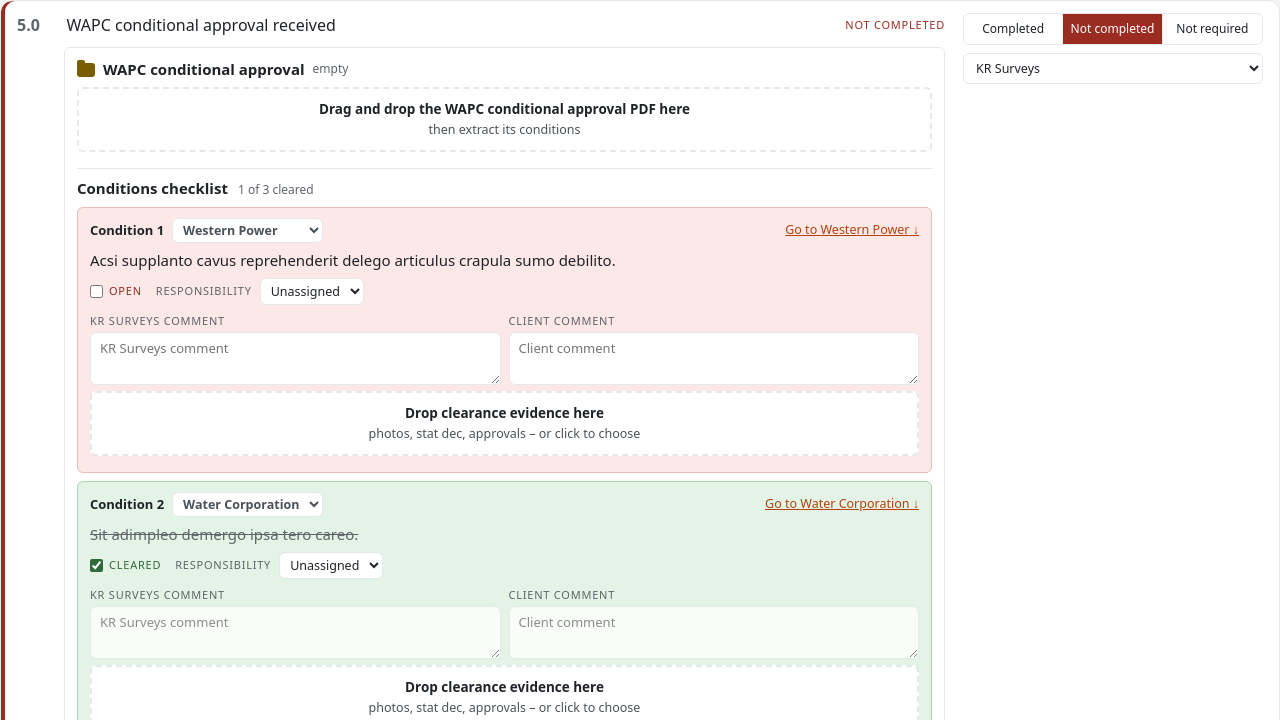
it: condition comments › shows the saved text again, with the save-failed banner, when a comment could not be saved
The width and height of the screenshot is (1280, 720).
Type "lost" into the text box with placeholder "Client comment" below "Western Power" at (714, 358), box [508,332,919,385]
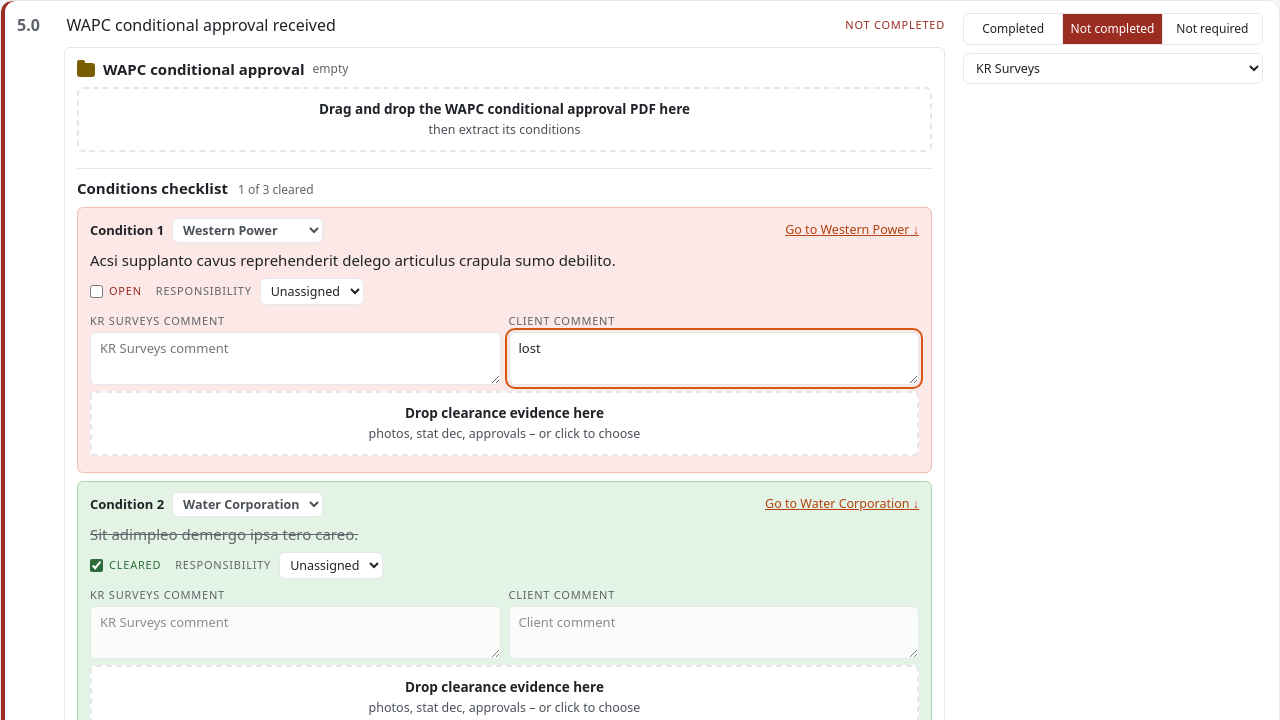
Press Tab
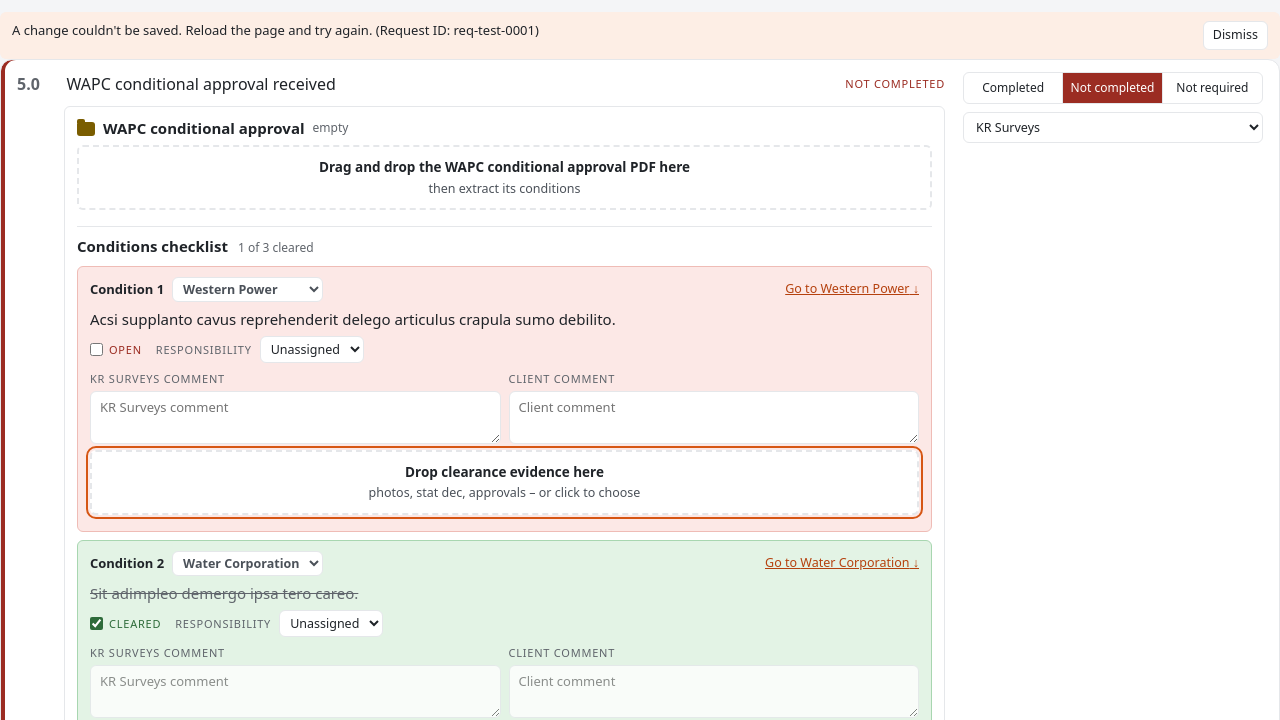
Now the text "A change couldn't be saved." is shown, box [12,21,539,39]
